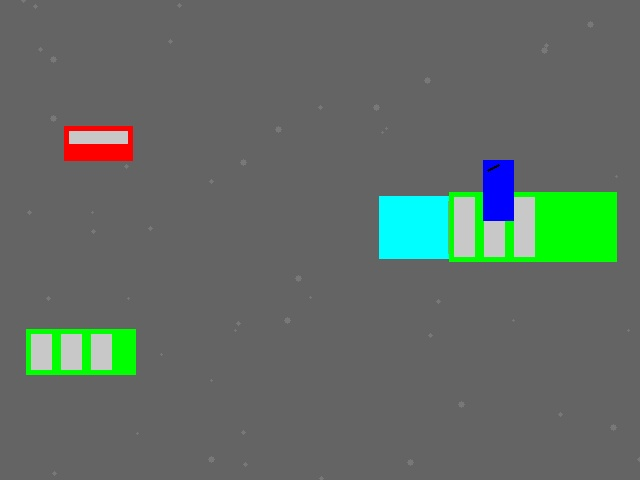bus: (449, 192, 616, 261), (26, 329, 135, 374)
car: (64, 126, 132, 160)
motorcycle: (483, 160, 513, 220)
truck: (379, 196, 517, 258)
